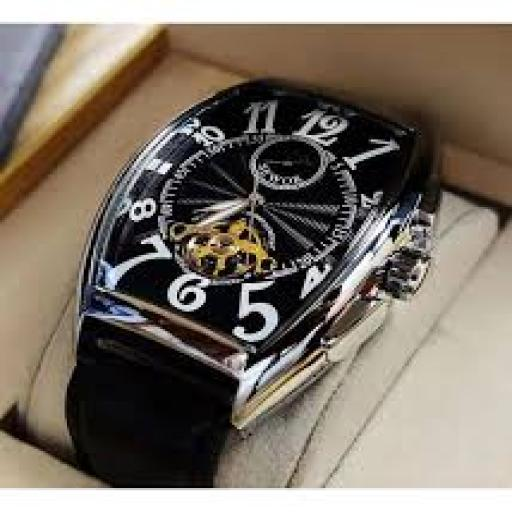KolSaati: (35, 41, 463, 495)
